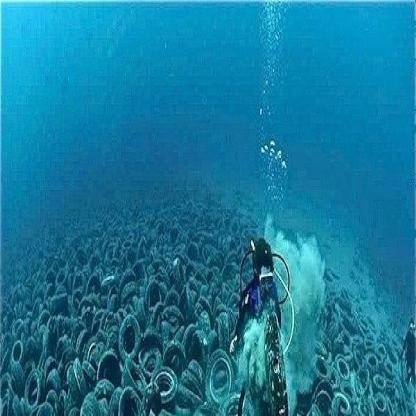tire: (4, 238, 232, 416), (320, 306, 399, 416)
